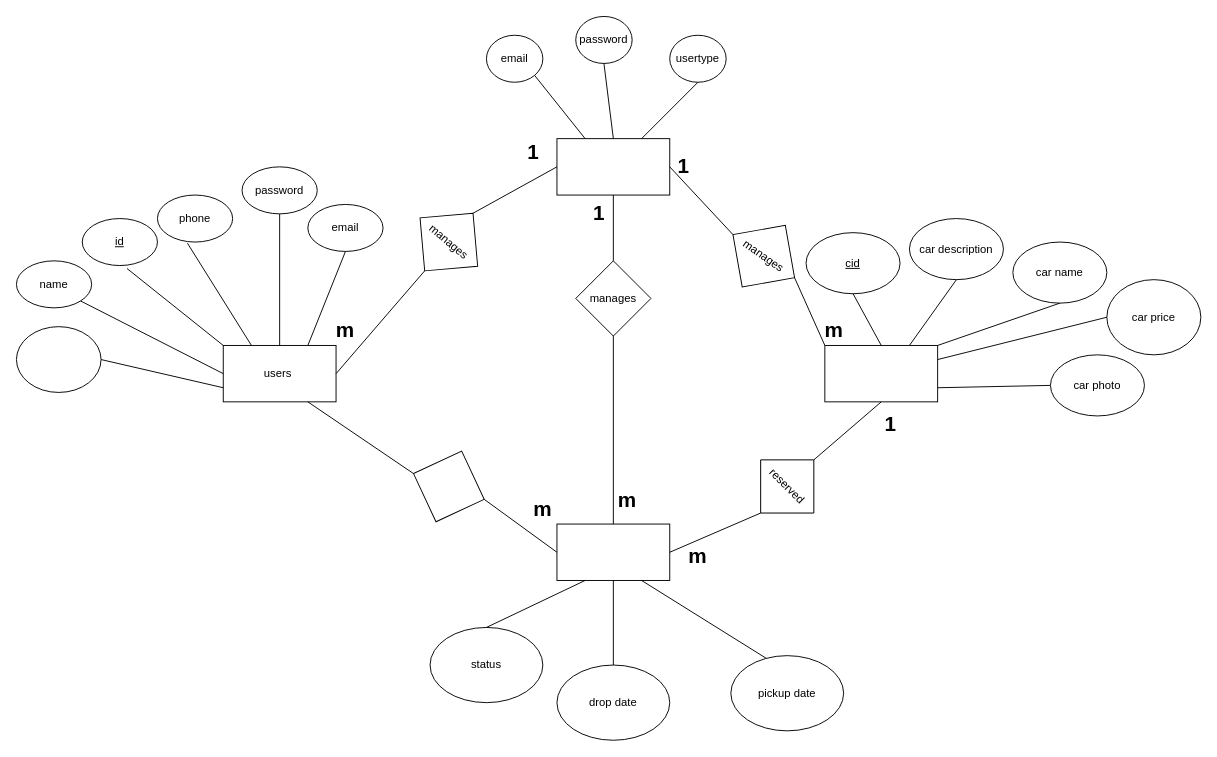
Image size: 1217x757. Some labels were removed from this diagram. The shapes that lost their labels are listed below. From the top down, each one's centre as x and y in pixels, then its label:
At point (613, 166): "admin".
At point (58, 359): "user type".
At point (881, 373): "cars".
At point (448, 486): "has".
At point (613, 551): "Reservation".
